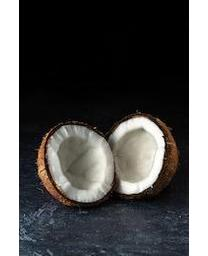coconut: (37, 122, 117, 209), (106, 111, 178, 200)
